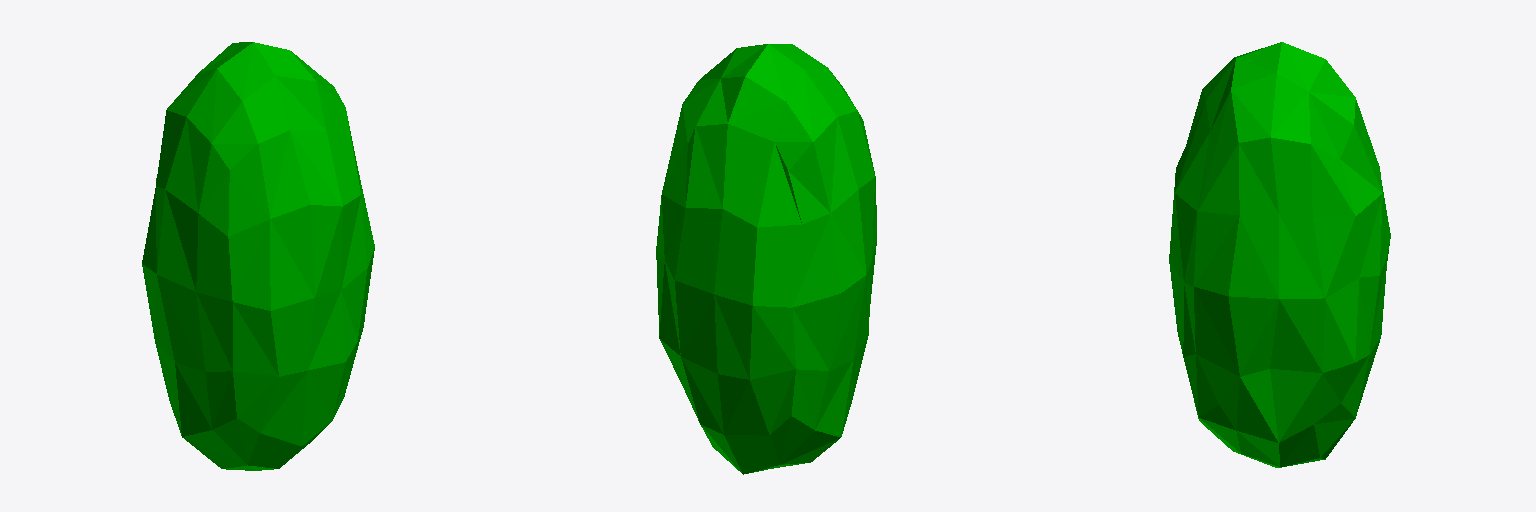
Rendered from TreeLeaves2.obj.
3 views of the same model, side by side, from view 1: azimuth 30°, elevation 25°; view 2: azimuth 150°, elevation 25°; view 3: azimuth 270°, elevation 25° (orthographic).
Visible parts, largest first — view 1: TreeLeaves2; view 2: TreeLeaves2; view 3: TreeLeaves2.
Boxes of the visible parts, x1=… form: TreeLeaves2: x1=142, y1=42, x2=374, y2=470; TreeLeaves2: x1=656, y1=44, x2=876, y2=474; TreeLeaves2: x1=1169, y1=42, x2=1390, y2=467.
Size of the model in its own units: 2.9 by 5.98 by 2.82.